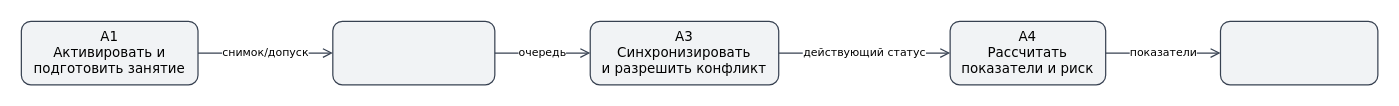
This 1399x106 diagram has some shape labels left out. Each missing label, with the centre of its shape:
A2 Принять и проверить событие: the point at 413,52
A5 Экспорт,хранение, аудит и копии: the point at 1298,52
